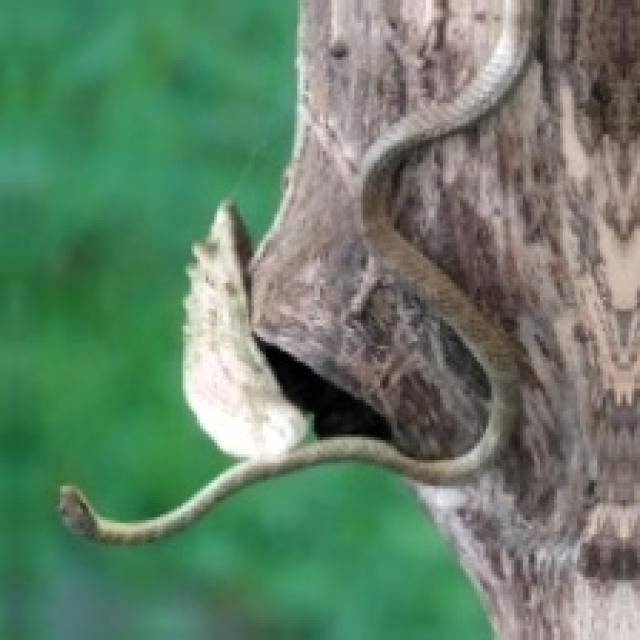paradise tree snake: (57, 0, 534, 540)
